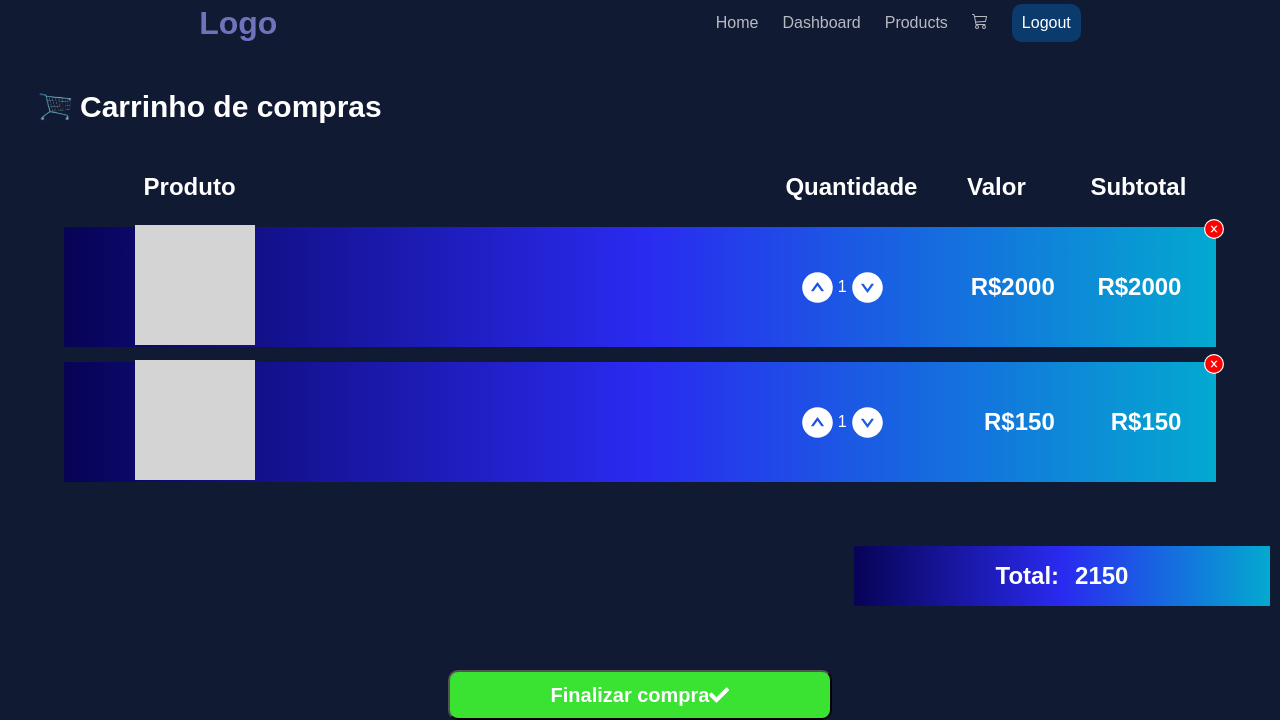
Scenario: <Carrinho/> › Deve ser possivel comprar algum produto
What coordinates should you click on to do the following:
click the button with test id "botaoComprar"
I would click on:
 (640, 695)
Its box is [448, 670, 832, 719].
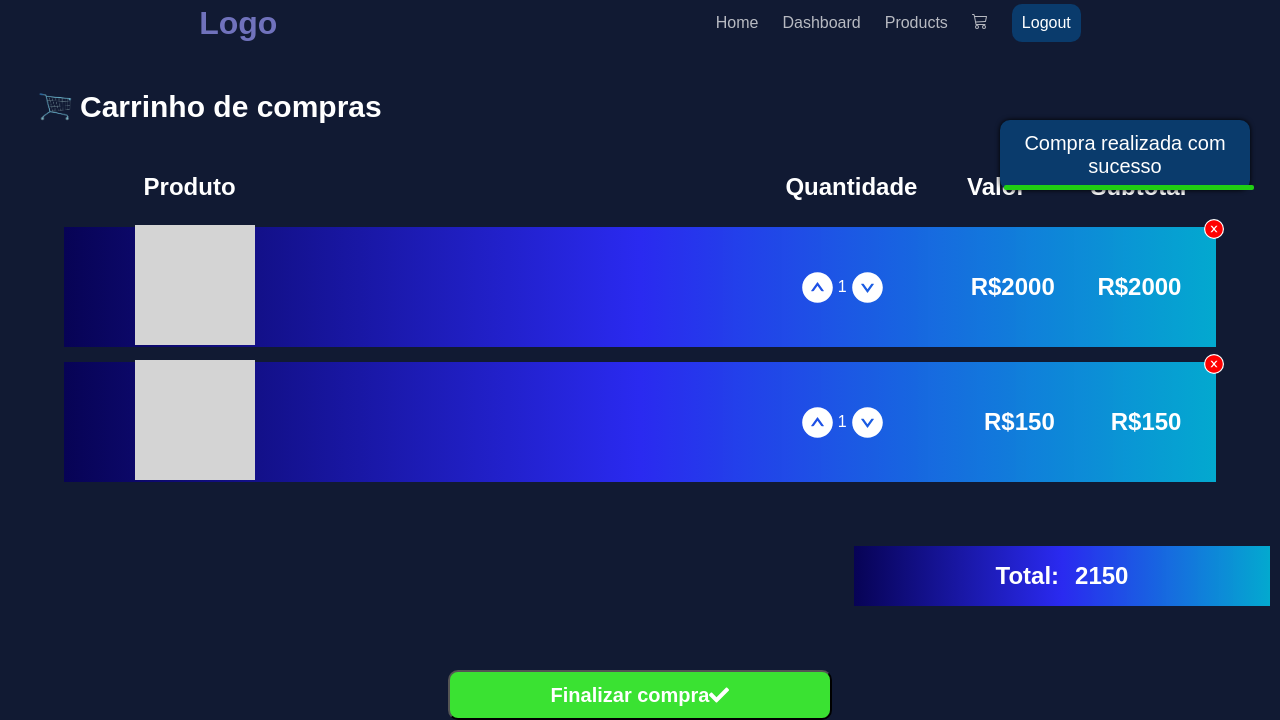
Expected: the text "Compra realizada com sucesso" is shown, [1000, 120, 1250, 190]
